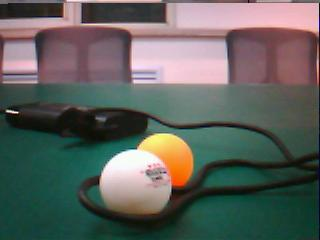oball: (137, 133, 193, 187)
